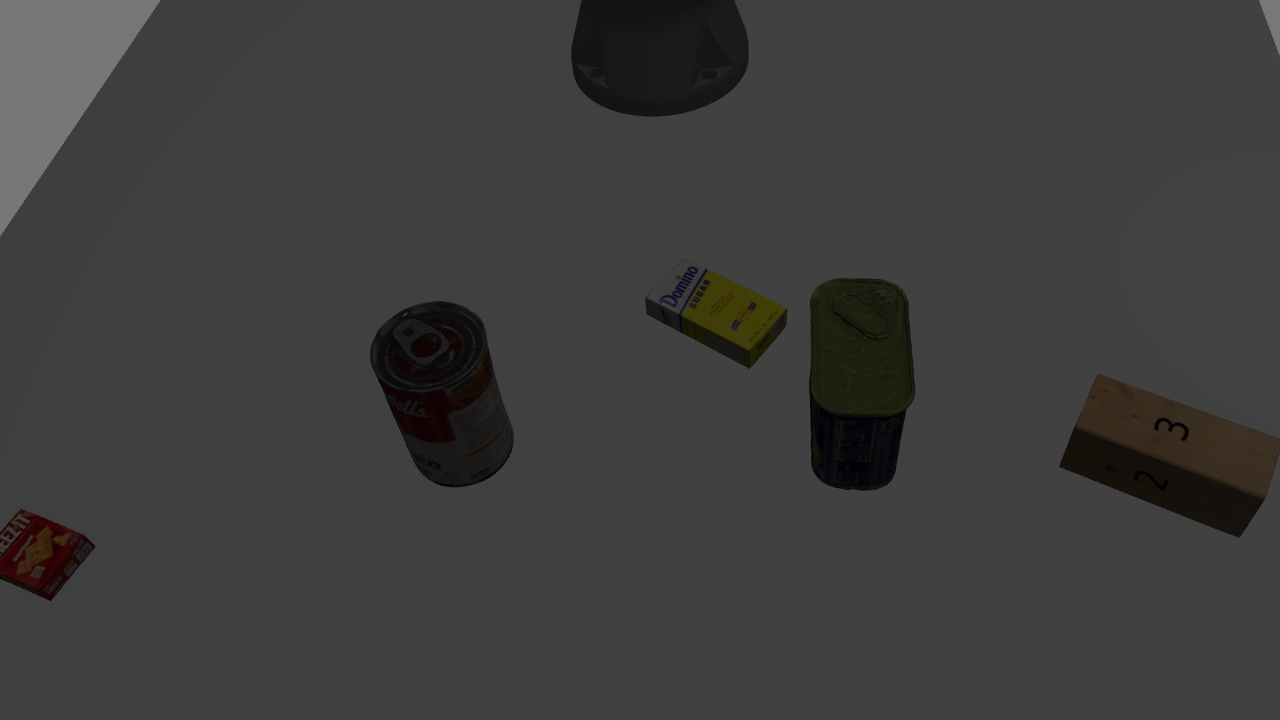cracker_box: (3, 503, 96, 605)
potted_meat_can: (801, 275, 917, 495)
sugar_box: (643, 253, 790, 369)
tomato_soup_can: (358, 298, 525, 489)
wood_block: (1059, 373, 1275, 538)
